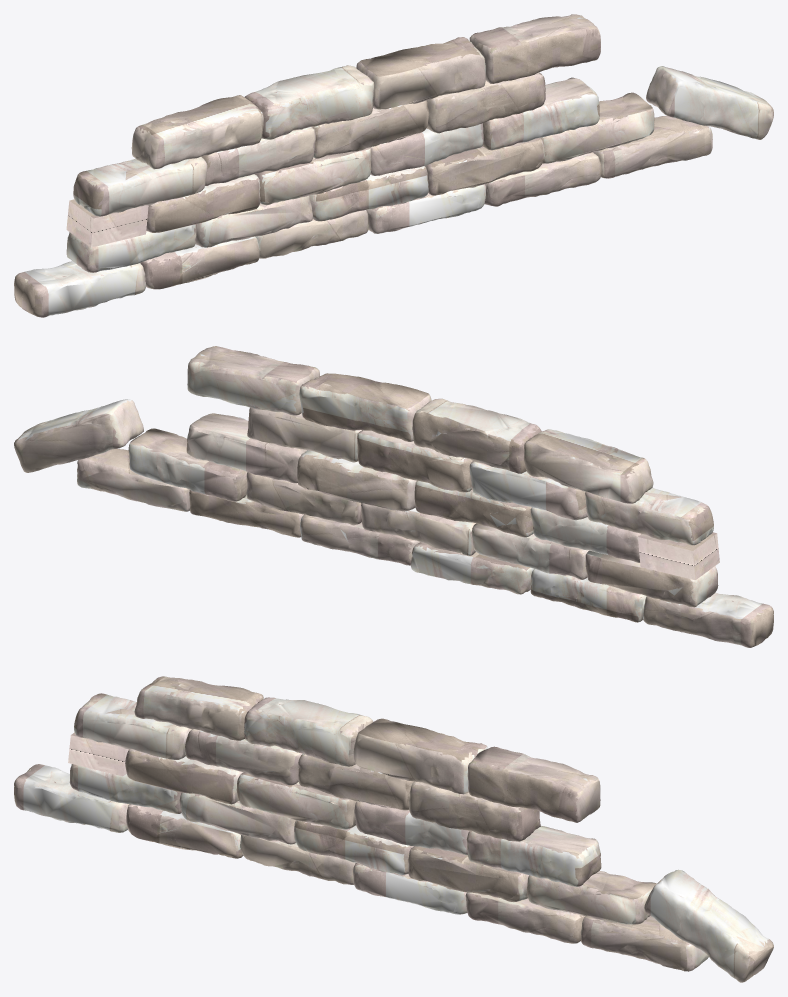
Rendered from brickB.fbx.
3 renders of one model, top to bottom at view 1: azimuth 30°, elevation 25°; view 2: azimuth 150°, elevation 25°; view 3: azimuth 330°, elevation 25°, orthographic.
Parts seen in each view (by area): view 1: Box028; view 2: Box028; view 3: Box028.
Boxes of the visible parts, box(x1,y1,x2,y2) form: Box028: box(14, 14, 773, 317); Box028: box(14, 346, 773, 647); Box028: box(14, 676, 773, 982).
Bounding box in the file's own units: 799 × 163 × 55.15.
